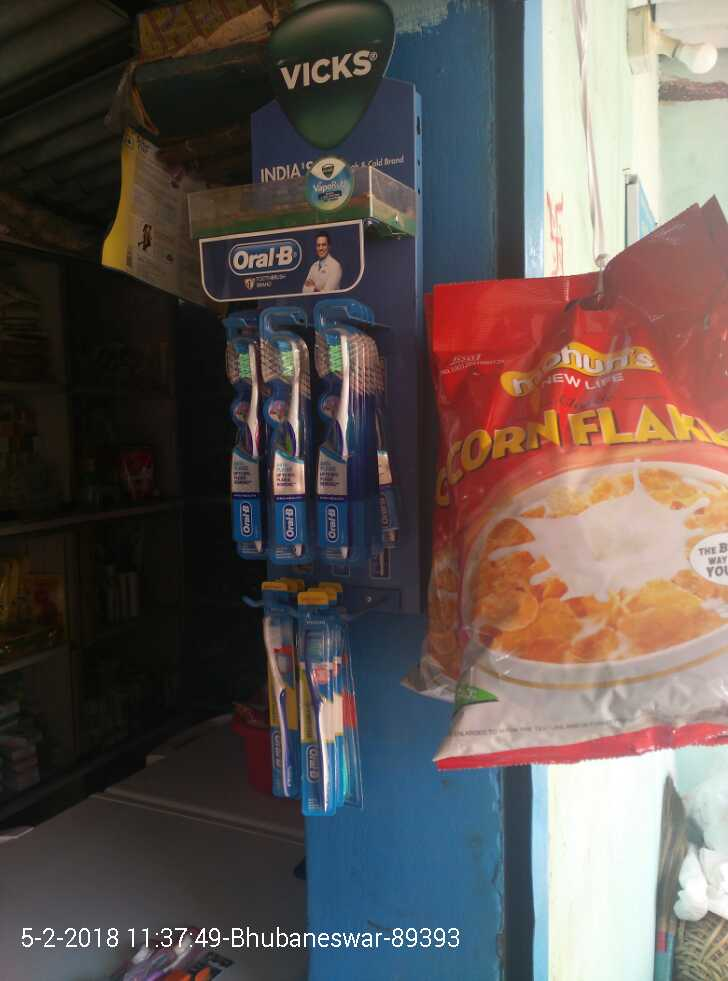oralb: (313, 316, 390, 566), (265, 313, 312, 567), (222, 316, 265, 556), (300, 619, 346, 815), (260, 616, 300, 803), (392, 563, 393, 566)
